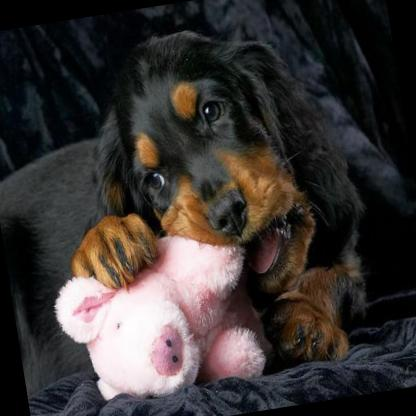Gordon_setter: (36, 4, 383, 396)
